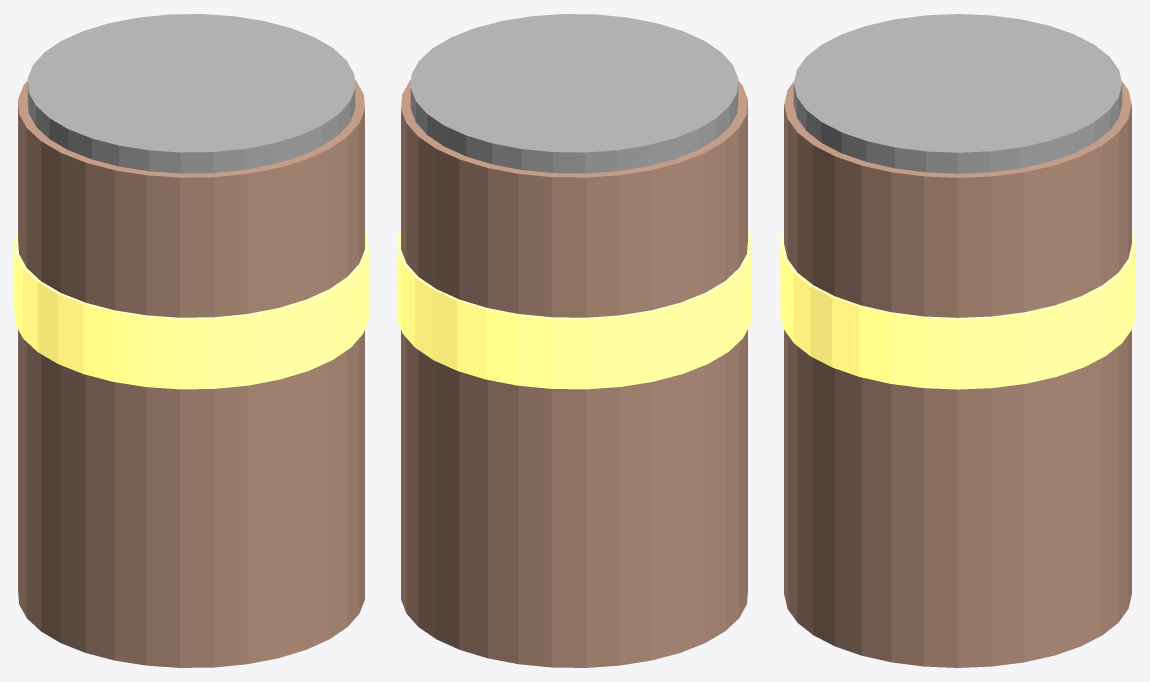
File: barrel.glb
The picture shows the model from 3 angles, left to right: view 1: azimuth 30°, elevation 25°; view 2: azimuth 150°, elevation 25°; view 3: azimuth 270°, elevation 25°; orthographic projection.
Parts seen in each view (by area): view 1: SB_BarBody, SB_BarTop, SB_BarStripe; view 2: SB_BarBody, SB_BarTop, SB_BarStripe; view 3: SB_BarBody, SB_BarTop, SB_BarStripe.
Boxes of the visible parts, x1=… form: SB_BarBody: x1=18, y1=79, x2=364, y2=667; SB_BarTop: x1=27, y1=14, x2=355, y2=173; SB_BarStripe: x1=14, y1=230, x2=368, y2=389; SB_BarBody: x1=401, y1=79, x2=747, y2=667; SB_BarTop: x1=410, y1=14, x2=738, y2=173; SB_BarStripe: x1=397, y1=230, x2=751, y2=389; SB_BarBody: x1=784, y1=81, x2=1131, y2=667; SB_BarTop: x1=793, y1=14, x2=1122, y2=173; SB_BarStripe: x1=780, y1=230, x2=1135, y2=389.
Bounding box in the file's own units: 0.92 × 1.46 × 0.92.
